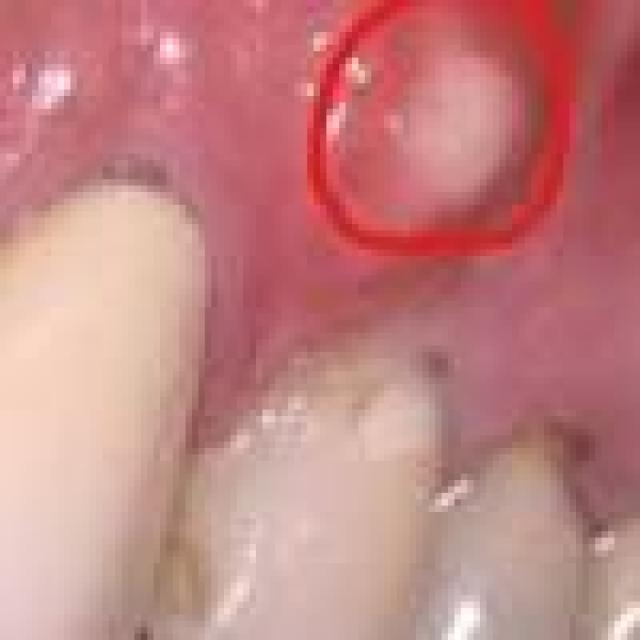abscess: (345, 36, 552, 246)
